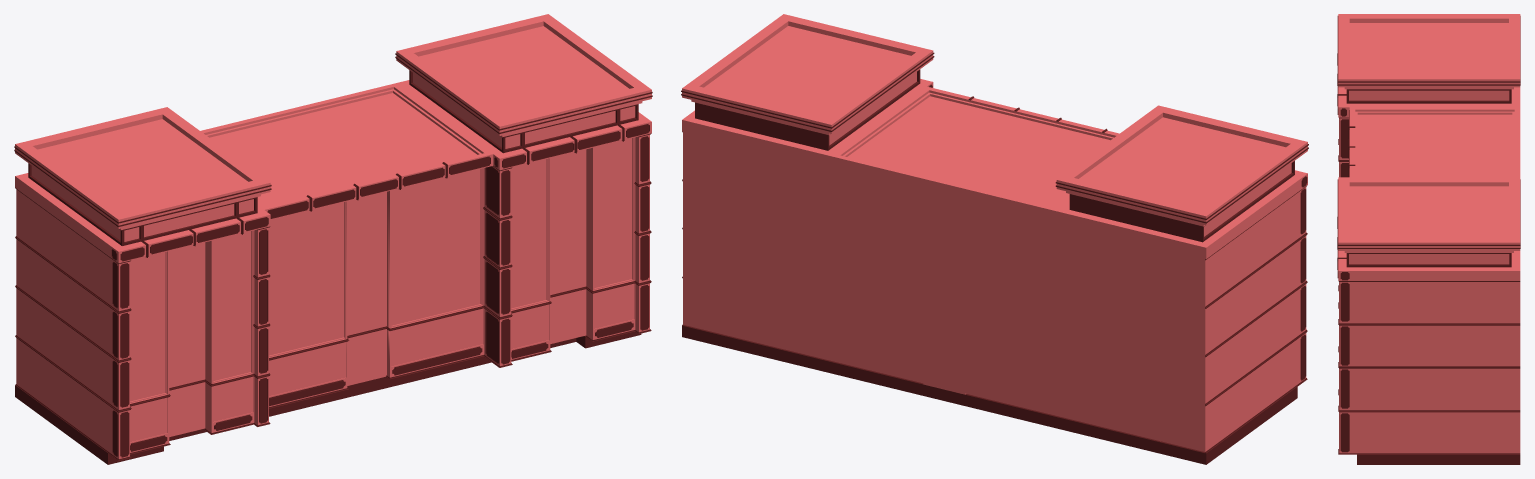
Rendered from Building_02.fbx.
3 renders of one model, left to right at view 1: azimuth 30°, elevation 25°; view 2: azimuth 150°, elevation 25°; view 3: azimuth 270°, elevation 25°, orthographic. The views are drawn at different scales.
Visible parts, largest first — view 1: Building_02; view 2: Building_02; view 3: Building_02.
Boxes of the visible parts, <box> form: Building_02: <box>14,14,652,464</box>; Building_02: <box>681,14,1308,464</box>; Building_02: <box>1337,14,1520,464</box>.
Bounding box in the file's own units: 4810 × 2175 × 1627.
